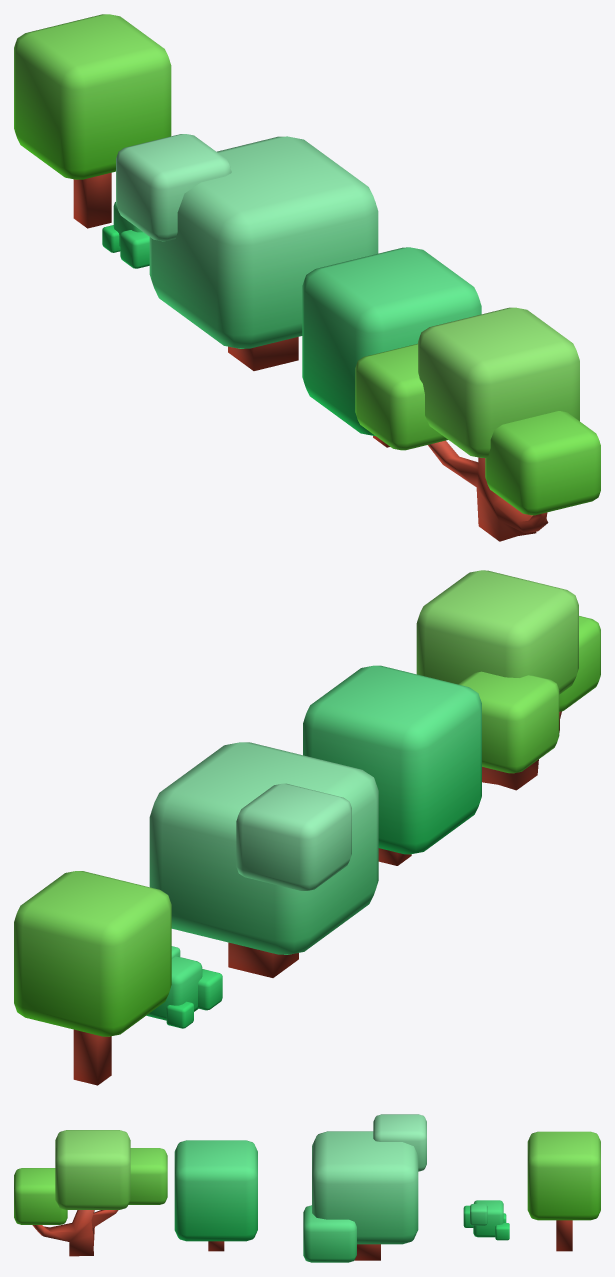
File: Arboles.fbx
3 renders of one model, top to bottom at view 1: azimuth 30°, elevation 25°; view 2: azimuth 150°, elevation 25°; view 3: azimuth 270°, elevation 25°, orthographic. The views are drawn at different scales.
Parts seen in each view (by area): view 1: Cube.002, Cube.004, Cube.007, Cube, Cube.006; view 2: Cube.002, Cube.004, Cube.007, Cube, Cube.006; view 3: Cube.002, Cube.004, Cube, Cube.007, Cube.006.
Boxes of the visible parts, x1,y1,x2,y2 form: Cube.002: (116, 134, 378, 370); Cube.004: (355, 307, 600, 541); Cube.007: (14, 14, 171, 228); Cube: (302, 247, 481, 447); Cube.006: (102, 202, 149, 268); Cube.002: (149, 742, 378, 977); Cube.004: (416, 570, 600, 790); Cube.007: (14, 871, 171, 1085); Cube: (303, 665, 481, 865); Cube.006: (146, 946, 222, 1028); Cube.002: (303, 1114, 426, 1262); Cube.004: (14, 1130, 167, 1256); Cube: (174, 1140, 257, 1251); Cube.007: (527, 1131, 600, 1251); Cube.006: (463, 1200, 509, 1240).
Size of the model in its own units: 227 by 215 by 1002.
